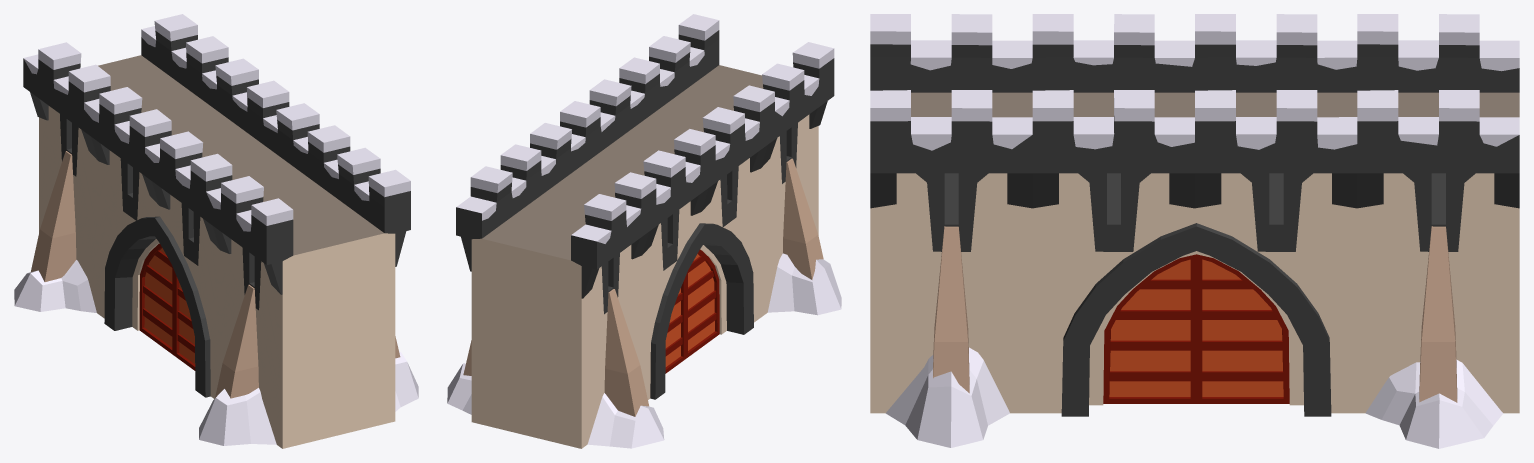
The model's file is wall-2.glb.
3 views of the same model, side by side, from view 1: azimuth 30°, elevation 25°; view 2: azimuth 150°, elevation 25°; view 3: azimuth 270°, elevation 25° (orthographic). The views are drawn at different scales.
Visible parts, largest first — view 1: Wall2, Wall1.001; view 2: Wall2, Wall1.001; view 3: Wall2, Wall1.001.
Part boxes in pixels (left/top/right/bottom): Wall2: left=23, top=14, right=410, bottom=448; Wall1.001: left=14, top=260, right=418, bottom=445; Wall2: left=456, top=14, right=834, bottom=448; Wall1.001: left=447, top=253, right=841, bottom=448; Wall2: left=870, top=14, right=1519, bottom=416; Wall1.001: left=885, top=347, right=1503, bottom=448.
Size of what is drawn, in the model's own units: 4.22 by 4.29 by 8.
Materials: 1 (1 with a texture image).
